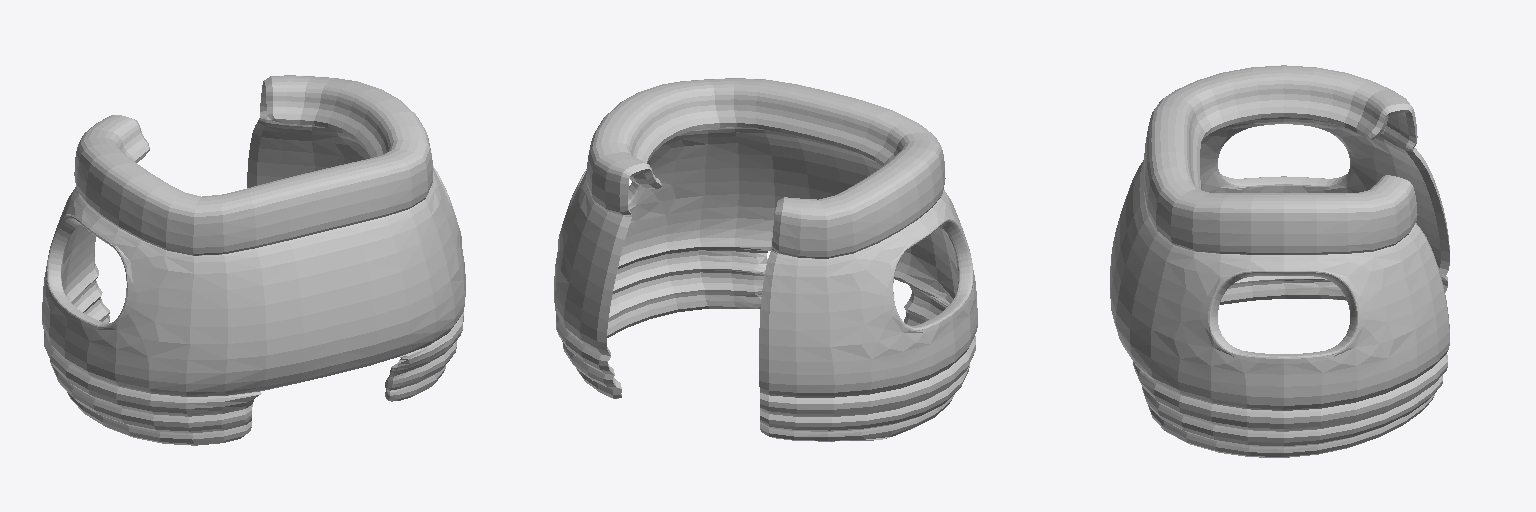
File: Chaleco.obj
The picture shows the model from 3 angles: view 1: azimuth 30°, elevation 25°; view 2: azimuth 150°, elevation 25°; view 3: azimuth 270°, elevation 25°; orthographic projection.
Parts seen in each view (by area): view 1: Chaleco; view 2: Chaleco; view 3: Chaleco.
Part boxes in pixels (left/top/right/bottom): Chaleco: left=42, top=75, right=465, bottom=445; Chaleco: left=554, top=78, right=977, bottom=441; Chaleco: left=1110, top=65, right=1449, bottom=457.
Bounding box in the file's own units: 23.76 × 14.67 × 18.46.